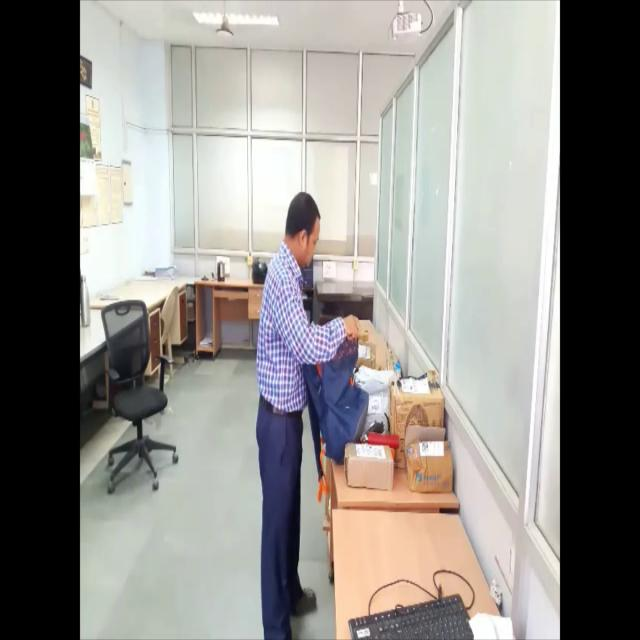shoplifting: (249, 166, 367, 640)
